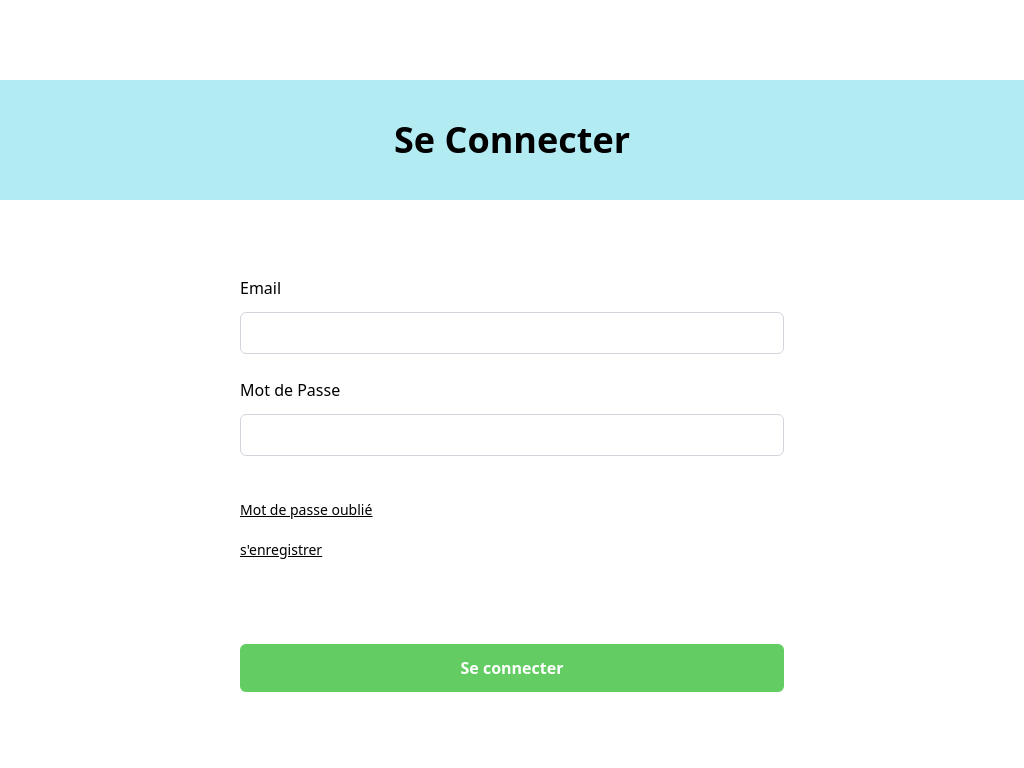
should redirect to home › should show password required
Type "mail" into the field named "email" at (512, 333), box [240,312,784,354]
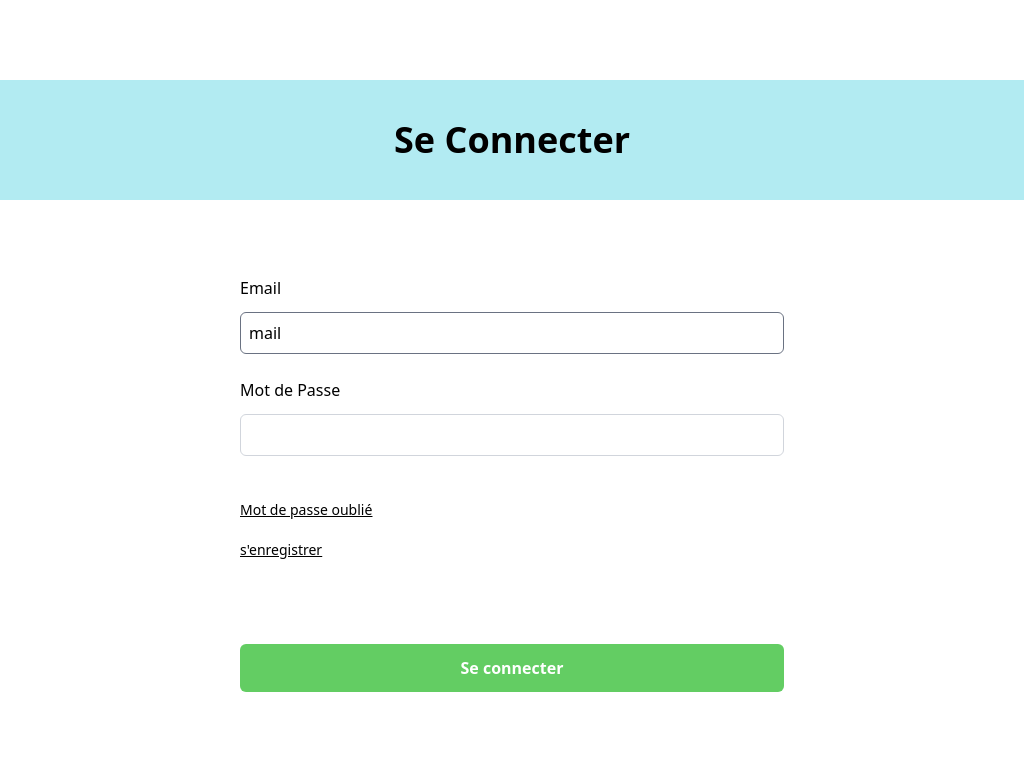
Click the submit button at (512, 668), box [240,644,784,692]
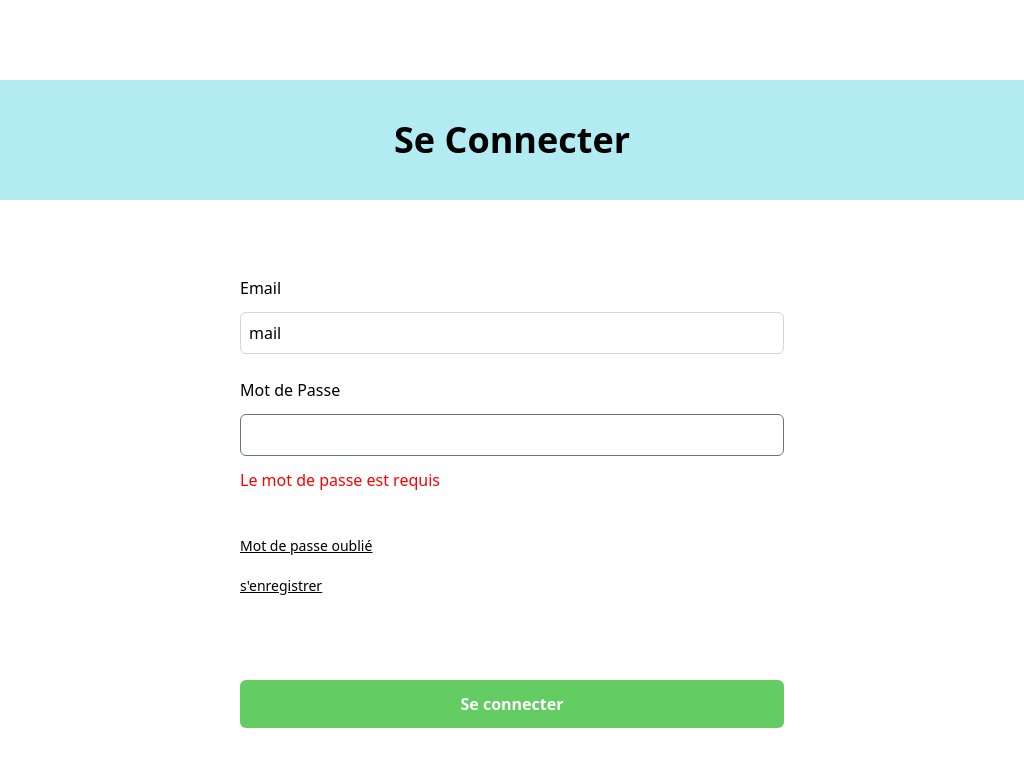
Check: the number of elements with test id "log" is 1, box [240,469,440,491]
